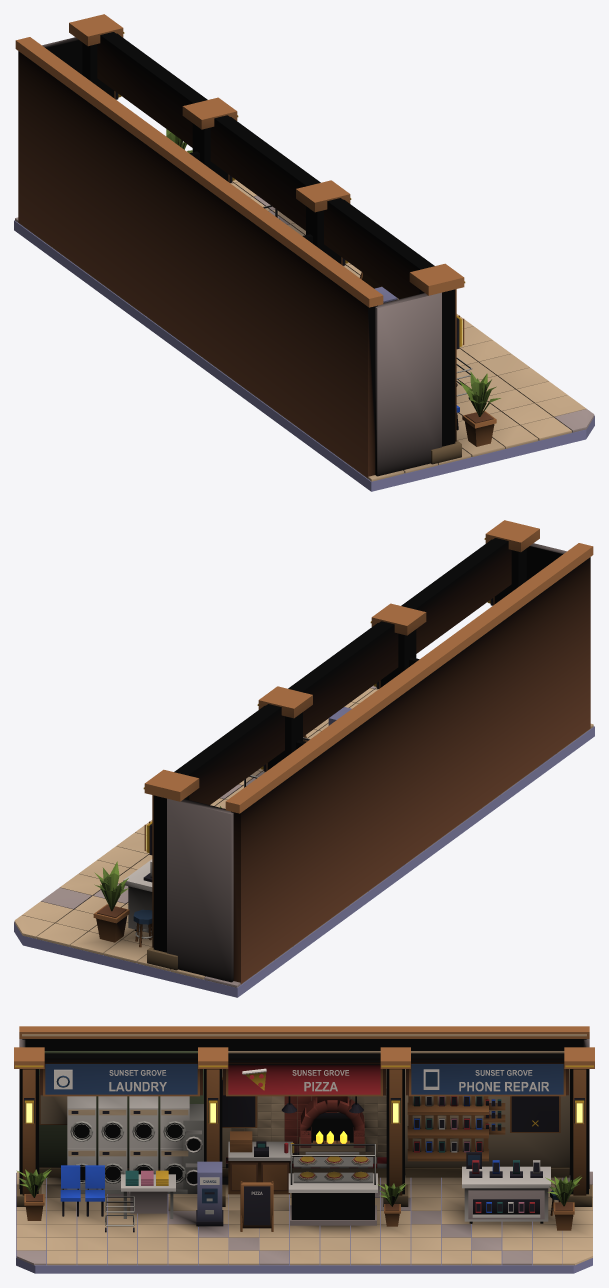
File: int.mini-mall.lod1.glb
3 renders of one model, top to bottom at view 1: azimuth 30°, elevation 25°; view 2: azimuth 150°, elevation 25°; view 3: azimuth 270°, elevation 25°, orthographic. The views are drawn at different scales.
Visible parts, largest first — view 1: interior; view 2: interior; view 3: interior.
Boxes of the visible parts, box(x1,y1,x2,y2) form: interior: box(14, 14, 594, 491); interior: box(14, 520, 594, 997); interior: box(14, 1026, 594, 1273).
Bounding box in the file's own units: 5.11 × 3.99 × 13.49.
